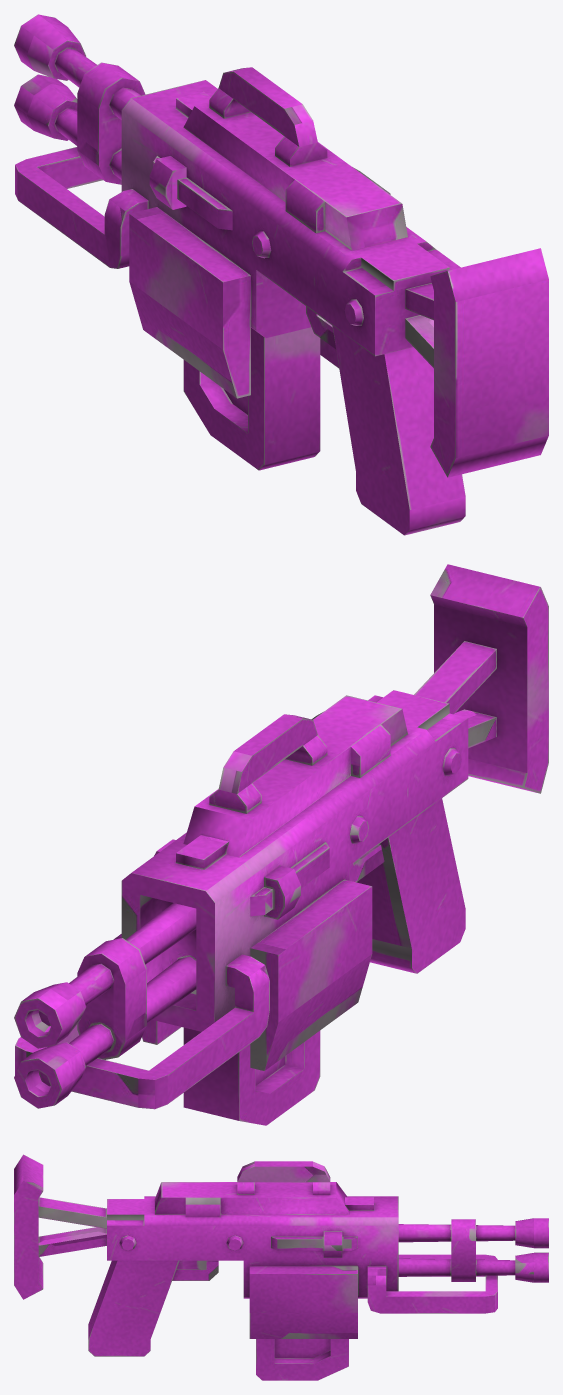
File: blaster-p.glb
3 renders of one model, top to bottom at view 1: azimuth 30°, elevation 25°; view 2: azimuth 150°, elevation 25°; view 3: azimuth 270°, elevation 25°, orthographic. The views are drawn at different scales.
Parts seen in each view (by area): view 1: blaster-p, magazine; view 2: blaster-p, magazine; view 3: blaster-p, magazine.
Boxes of the visible parts, box(x1,y1,x2,y2) form: blaster-p: box(14, 14, 548, 535); magazine: box(183, 327, 320, 470); blaster-p: box(14, 564, 548, 1109); magazine: box(183, 1027, 320, 1125); blaster-p: box(14, 1154, 548, 1356); magazine: box(256, 1339, 348, 1380).
Size of the model in its own units: 0.16 by 0.3709 by 0.8621.
Materials: 1 (1 with a texture image).
